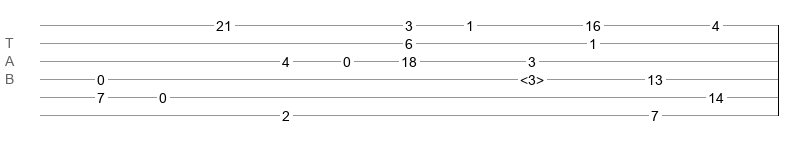0: (97, 72, 105, 82), (159, 90, 167, 100), (343, 54, 351, 64)
1: (466, 18, 474, 28), (589, 36, 597, 46)
13: (647, 72, 663, 82)
14: (708, 90, 724, 100)
16: (585, 18, 601, 28)
18: (401, 54, 417, 64)
2: (282, 108, 290, 118)
21: (216, 18, 232, 28)
3: (405, 18, 413, 28), (528, 54, 536, 64)
4: (282, 54, 290, 64), (712, 18, 720, 28)
6: (405, 36, 413, 46)
7: (97, 90, 105, 100), (651, 108, 659, 118)
harmonic: (520, 72, 544, 82)
